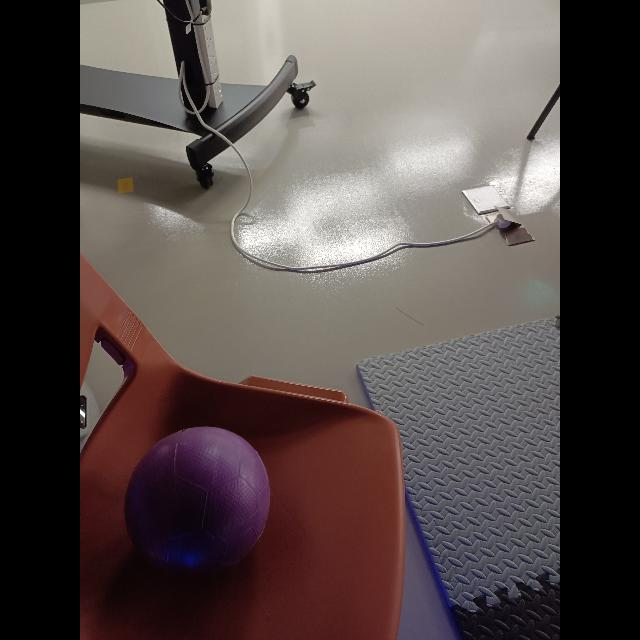P: (125, 422, 273, 572)
